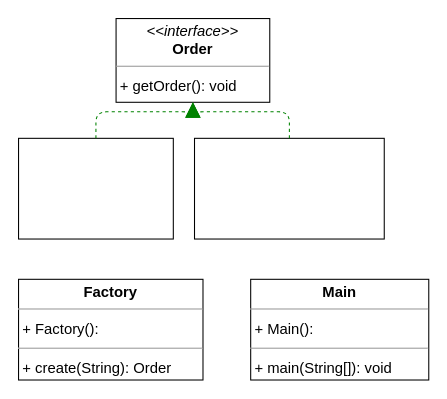
Some shapes in this 447 by 399 pixel diagram are drawn without their labels. The centre of each missing label's shape, as x and y in pixels:
OnlineOrder + OnlineOrder(): + getOrder(): void: the point at 95,188
TelephoneOrder + TelephoneOrder(): + getOrder(): void: the point at 288,188
